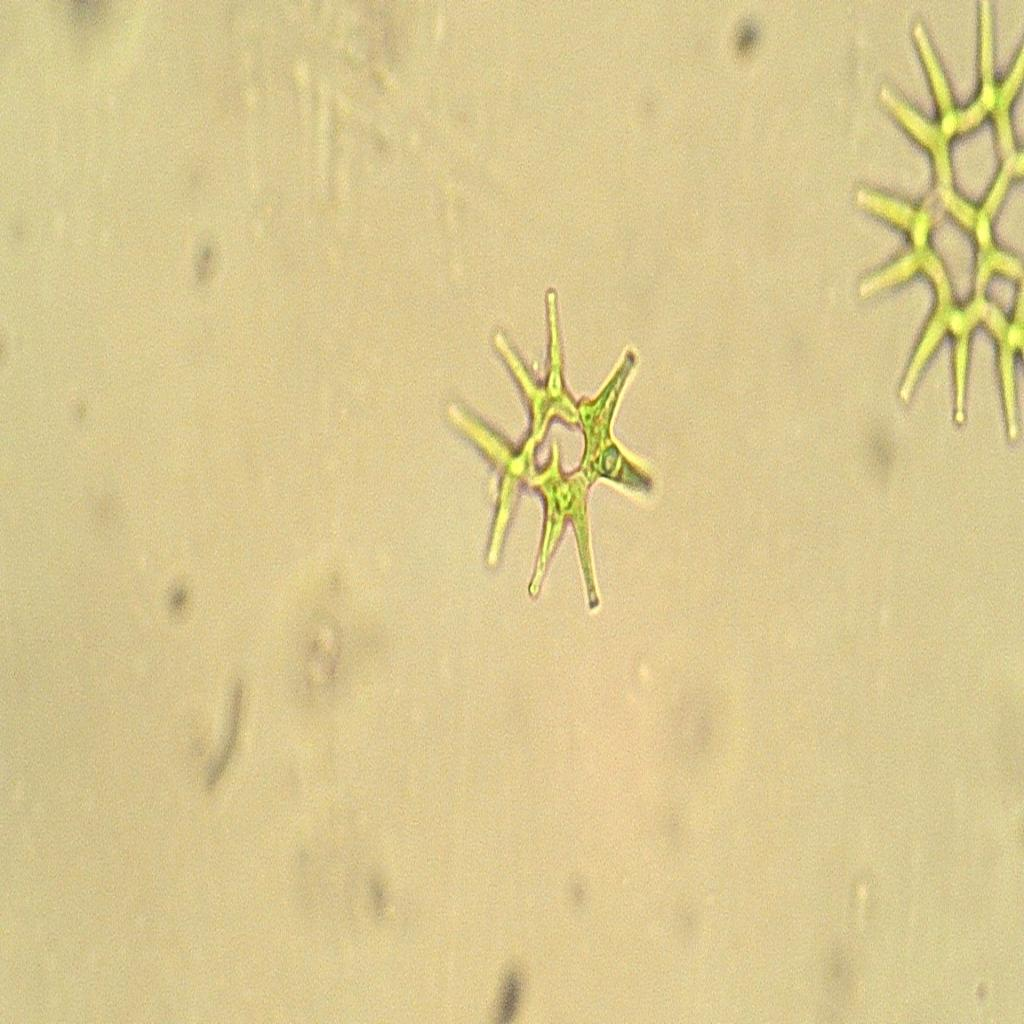Pediastrum_CF: (428, 277, 683, 632)
